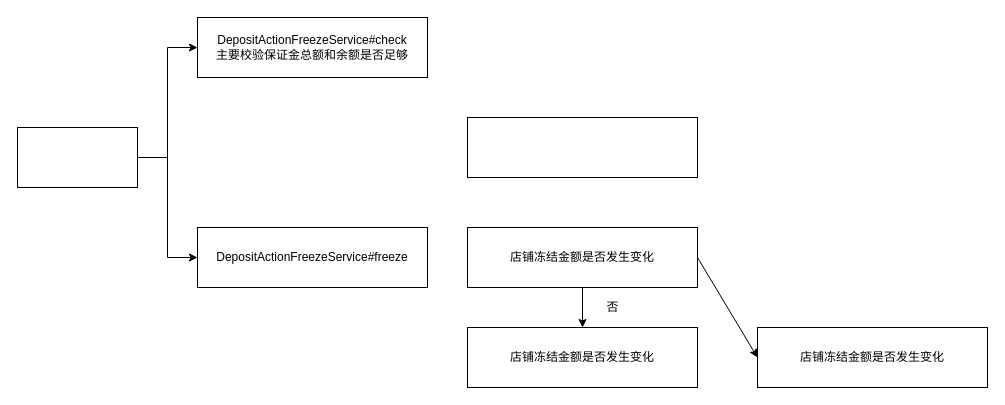
Some shapes in this 1005 by 405 pixel diagram are drawn without their labels. Here are the shapes that lost their labels. From the top down, the centre of each, then its label:
At (77,157): "场次冻结".
At (582,147): "车辆在店铺或场已经冻结，直接返回".
